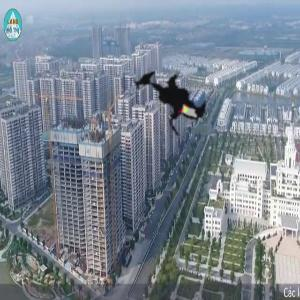drone: (107, 42, 229, 164)
